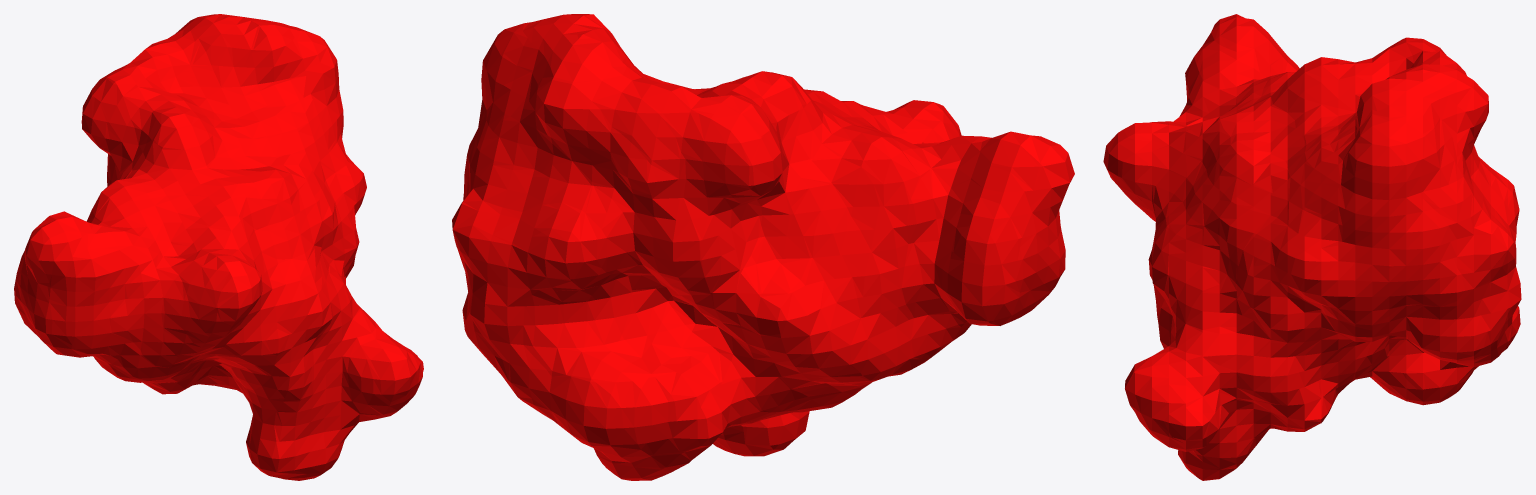
Rendered from ilvD_coarse.dae.
The picture shows the model from 3 angles, left to right: view 1: azimuth 30°, elevation 25°; view 2: azimuth 150°, elevation 25°; view 3: azimuth 270°, elevation 25°; orthographic projection. The views are drawn at different scales.
Parts seen in each view (by area): view 1: ilvD; view 2: ilvD; view 3: ilvD.
Part boxes in pixels (left/top/right/bottom): ilvD: left=14, top=14, right=423, bottom=480; ilvD: left=452, top=14, right=1074, bottom=480; ilvD: left=1103, top=14, right=1521, bottom=480.
Size of the model in its own units: 77.63 by 75.31 by 68.23.
